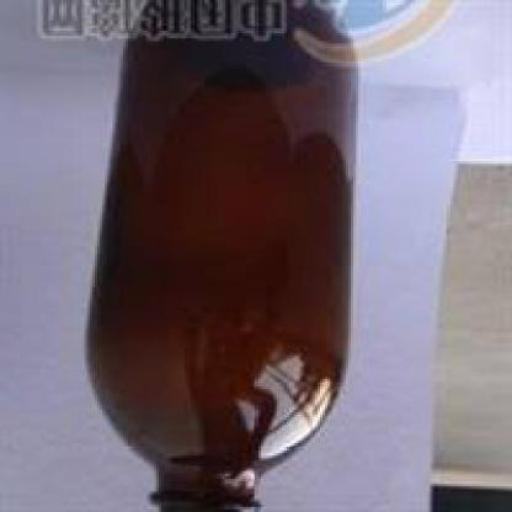glass: (86, 2, 362, 511)
